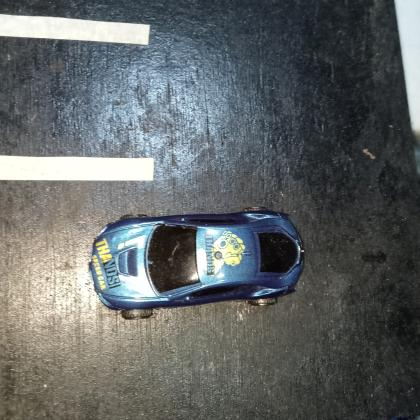Car: (88, 204, 307, 320)
